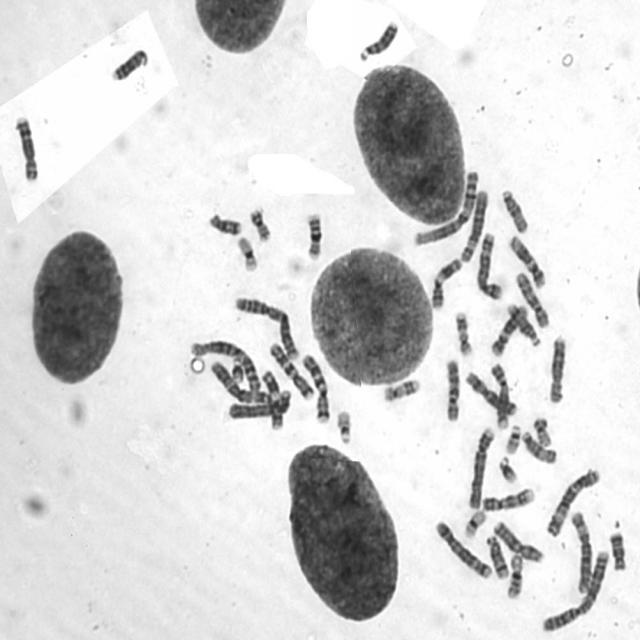A1: (411, 167, 480, 249), (187, 336, 263, 394)
A2: (539, 546, 612, 634), (232, 292, 302, 362)
A3: (543, 464, 602, 538), (210, 360, 272, 405)
B4: (465, 423, 495, 510), (224, 387, 294, 420)
B5: (432, 517, 493, 581), (474, 229, 504, 300)
C10: (513, 269, 550, 329), (442, 356, 462, 424)
C11: (428, 256, 464, 311), (260, 368, 284, 431)
C12: (488, 301, 530, 358), (507, 232, 548, 288)
C6: (457, 186, 490, 264), (568, 508, 593, 594)
C7: (267, 338, 314, 401), (299, 351, 331, 424)
C8: (12, 113, 40, 183), (546, 332, 567, 404)
C9: (488, 360, 512, 427), (480, 484, 535, 512)
D13: (357, 18, 399, 62), (109, 46, 149, 82)
D14: (504, 301, 542, 348), (483, 532, 510, 580)
D15: (520, 427, 558, 466), (500, 186, 530, 235)
E16: (303, 208, 324, 262), (504, 550, 524, 599)
E17: (380, 375, 421, 403), (453, 308, 474, 358)
E18: (206, 210, 243, 236), (606, 529, 626, 572)
F19: (233, 232, 260, 274), (460, 507, 488, 540)
F20: (247, 204, 272, 244), (530, 415, 553, 448)
G21: (496, 453, 519, 485), (228, 355, 247, 384)
G22: (334, 407, 354, 444), (502, 422, 522, 455)
X: (463, 367, 518, 418), (491, 517, 544, 563)
